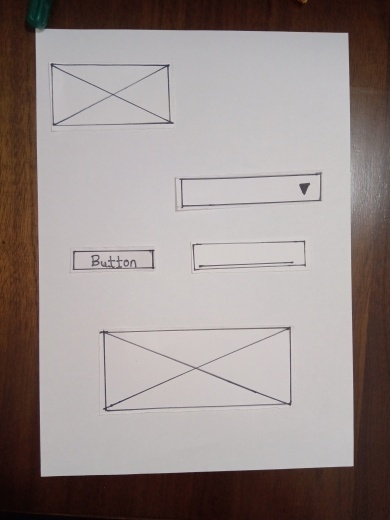button: (73, 251, 157, 271)
dropdown: (180, 178, 323, 201)
img: (104, 331, 294, 405), (48, 63, 173, 129)
text: (191, 242, 304, 269)
